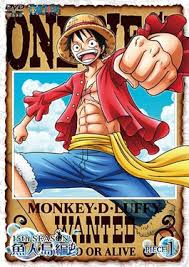luffy: (56, 14, 118, 76)
